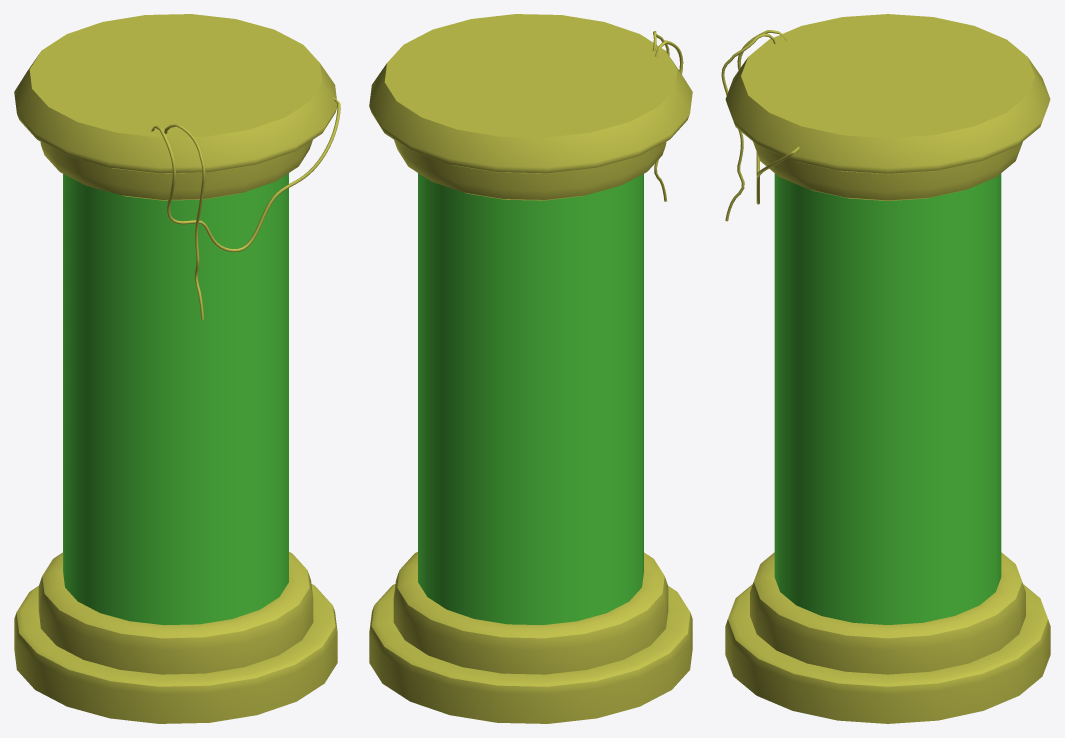
The model's file is Tubo_1.fbx.
3 renders of one model, left to right at view 1: azimuth 30°, elevation 25°; view 2: azimuth 150°, elevation 25°; view 3: azimuth 270°, elevation 25°, orthographic.
Visible parts, largest first — view 1: polySurface59, polySurface60, polySurface61, polySurface57, polySurface58; view 2: polySurface59, polySurface60, polySurface61; view 3: polySurface59, polySurface60, polySurface61, polySurface58, polySurface57.
Boxes of the visible parts, bbox=[...] form: polySurface59: bbox=[63, 173, 288, 625]; polySurface60: bbox=[14, 14, 337, 200]; polySurface61: bbox=[14, 552, 337, 723]; polySurface57: bbox=[151, 97, 340, 252]; polySurface58: bbox=[164, 123, 205, 319]; polySurface59: bbox=[418, 173, 643, 625]; polySurface60: bbox=[369, 14, 692, 200]; polySurface61: bbox=[369, 552, 692, 723]; polySurface59: bbox=[774, 173, 1001, 624]; polySurface60: bbox=[725, 14, 1050, 200]; polySurface61: bbox=[725, 552, 1050, 723]; polySurface58: bbox=[721, 33, 776, 221]; polySurface57: bbox=[737, 30, 799, 204].
Size of the model in its own units: 10.76 by 21.62 by 10.89.
